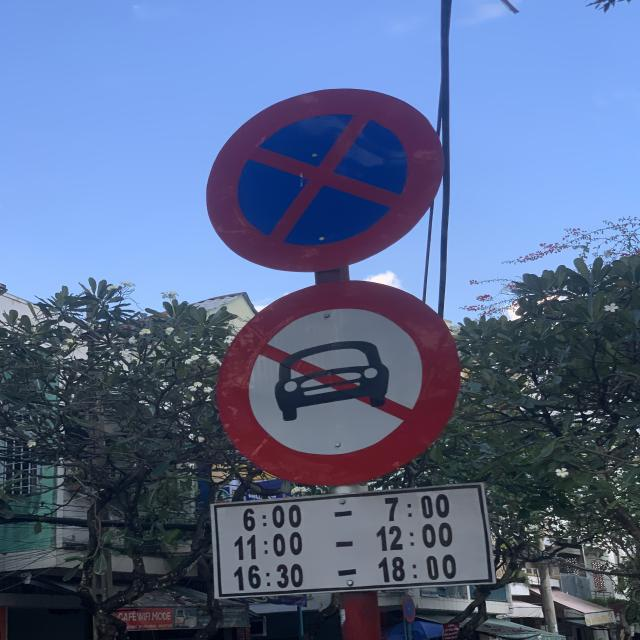Cam_Dung_Va_Dau_Xe: (203, 86, 446, 274)
Cam_O_To: (215, 281, 461, 488)
